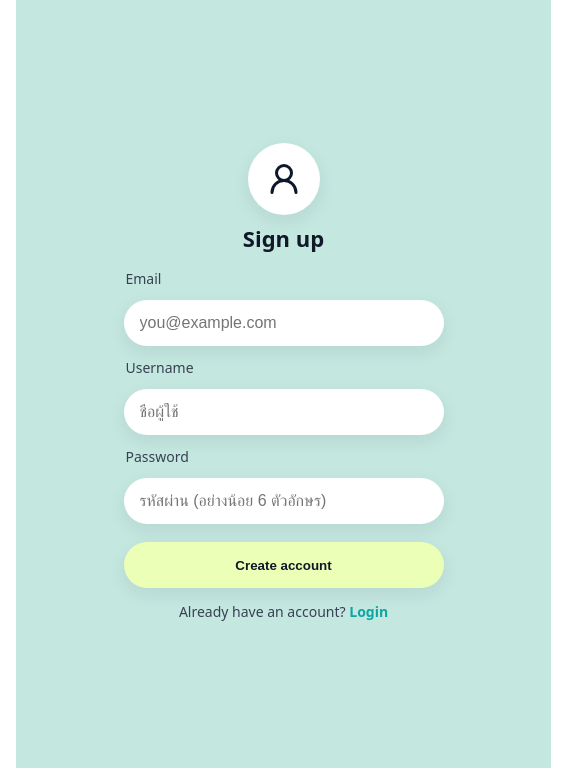
SignUp (Frontend only) › validate: รหัสผ่านต้องยาวอย่างน้อย 6 ตัวอักษร
Type "a@b.com" into the field labelled "Email" at (284, 323), box [124,300,444,346]
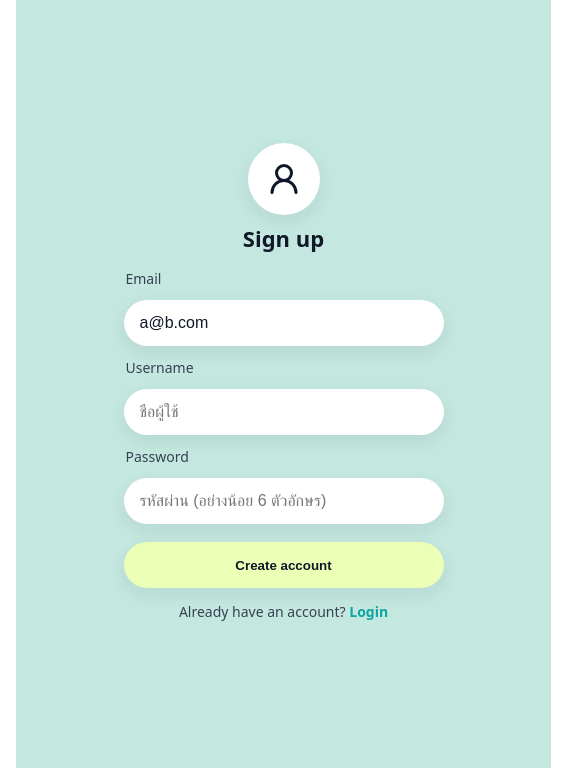
Type "abc" into the field labelled "Username" at (284, 412), box [124,389,444,435]
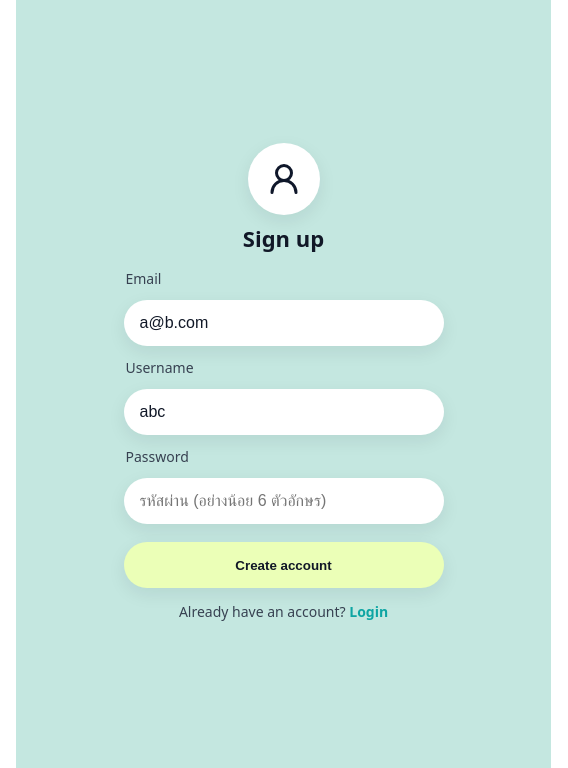
Type "12345" into the password field labelled "Password" at (284, 501), box [124,478,444,524]
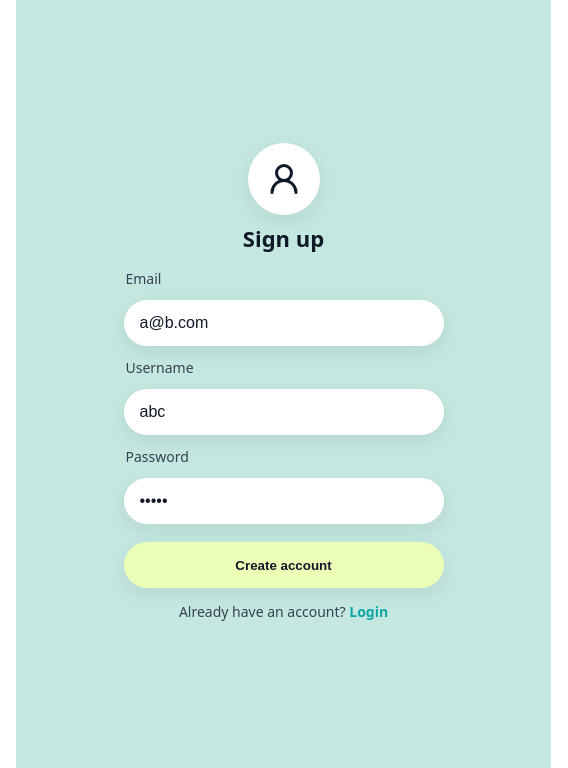
Click the button "Create account" at (284, 565), box [124,542,444,588]
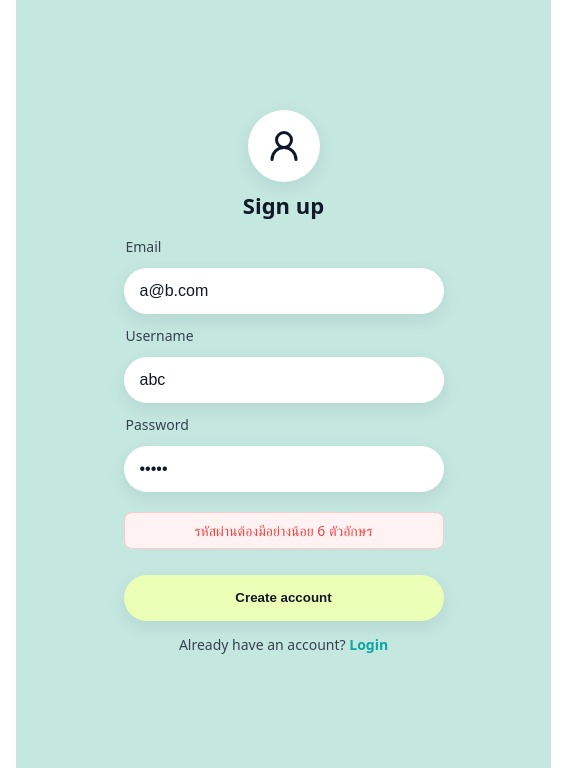
Now the text "รหัสผ่านต้องมีอย่างน้อย 6 ตัวอักษร" is shown, box [124,512,444,549]
